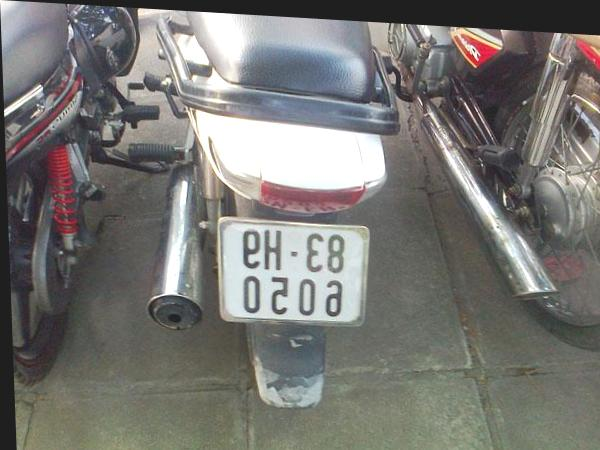License_Plate: (219, 218, 370, 329)
